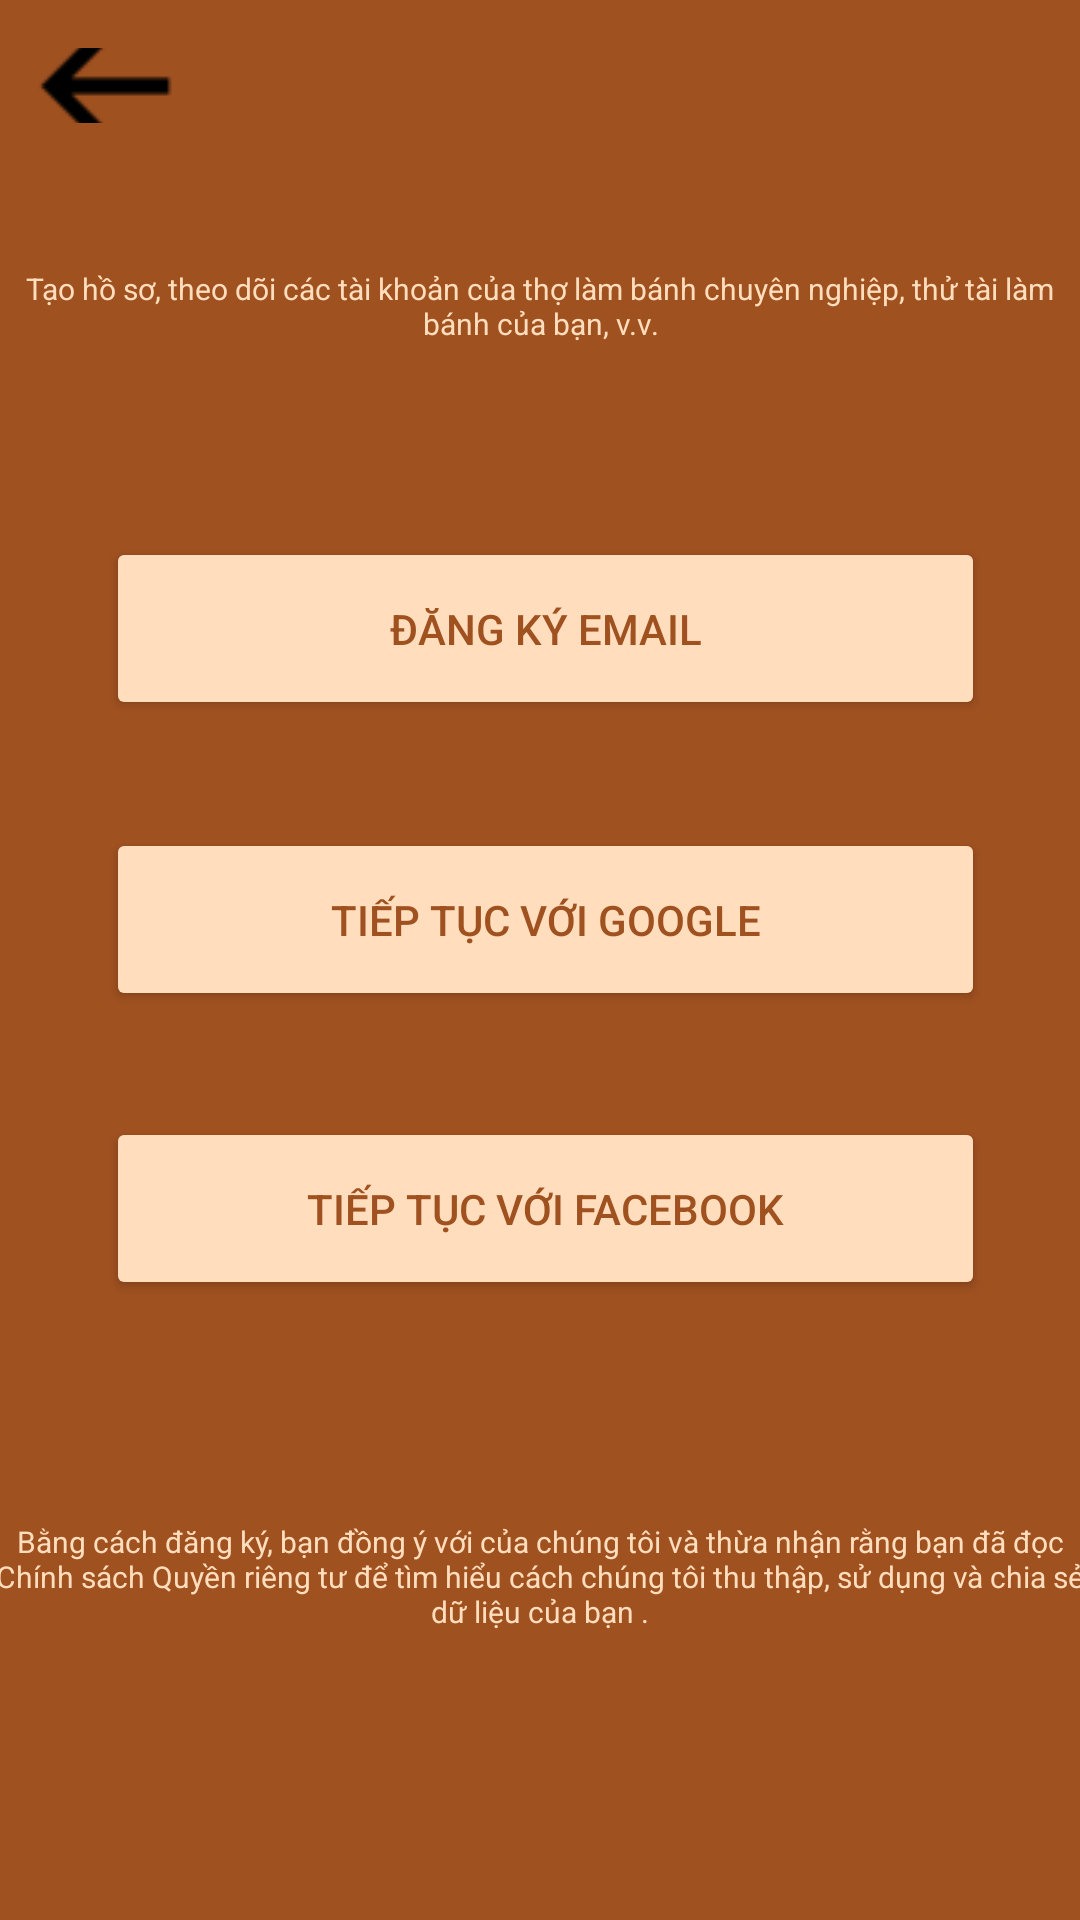

Where icons sit on this 1080*1920 app screen, as (x1, y1, x2, y2):
back: (41, 48, 171, 123)
